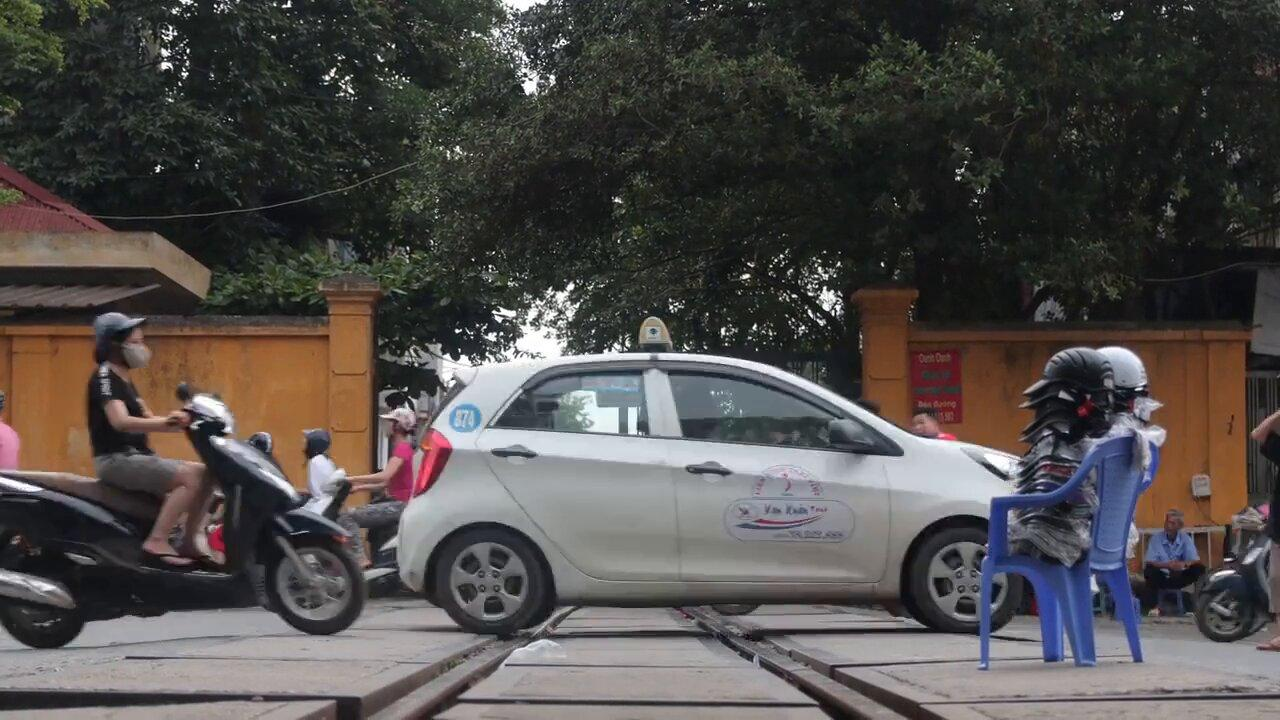driver: (1, 312, 367, 645)
helmet: (93, 311, 153, 371), (378, 408, 417, 442), (301, 428, 331, 459)
